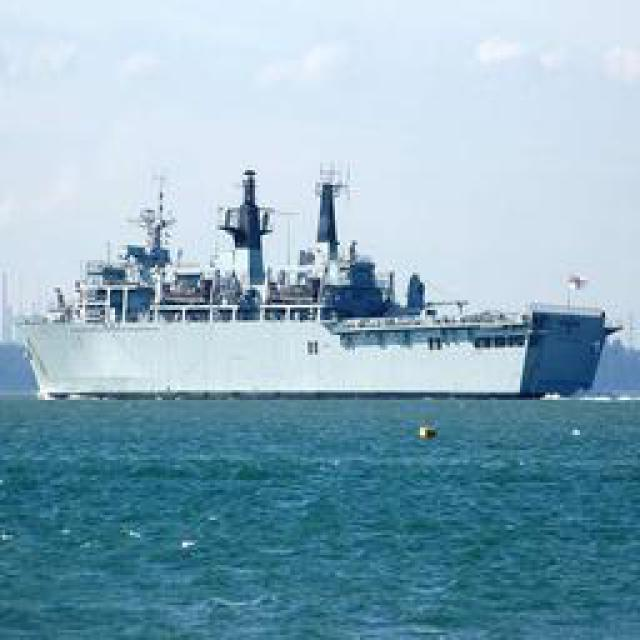Ship: (14, 151, 614, 406)
